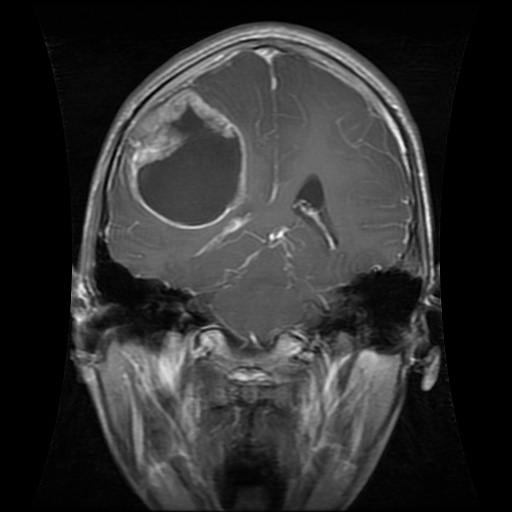glioma: (123, 85, 246, 228)
